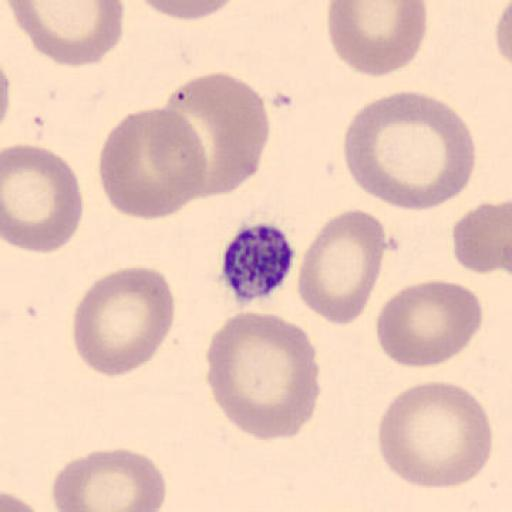Platelet: (218, 219, 297, 307)
RBC: (344, 89, 477, 213), (206, 309, 322, 443), (162, 71, 272, 200), (377, 379, 493, 491), (98, 106, 208, 220), (71, 265, 176, 378), (296, 208, 387, 328), (374, 278, 484, 371), (3, 143, 84, 255), (6, 0, 126, 68), (50, 445, 168, 512), (327, 1, 428, 77), (451, 198, 512, 274), (136, 0, 242, 21), (492, 0, 512, 71), (0, 476, 37, 512), (1, 489, 43, 511), (0, 58, 11, 134)
